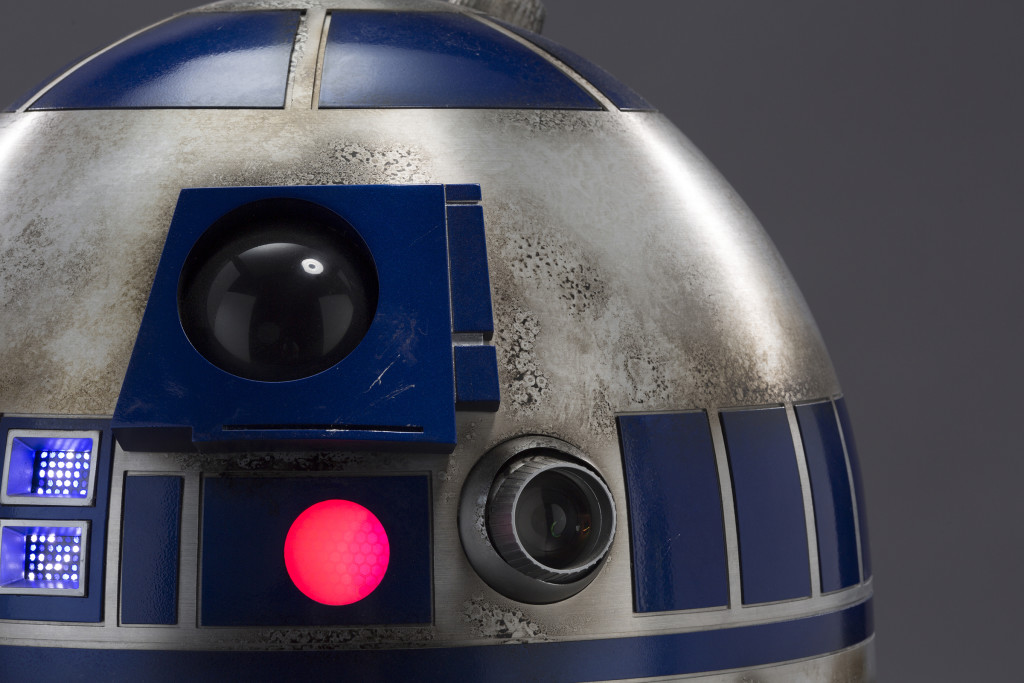r2d2: (1, 1, 879, 683)
